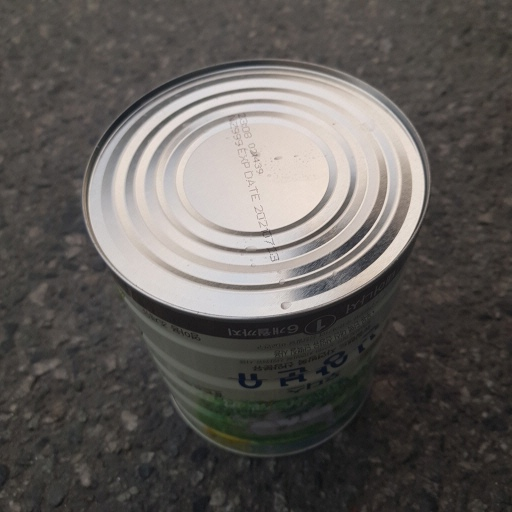Metal_1: (83, 59, 433, 461)
